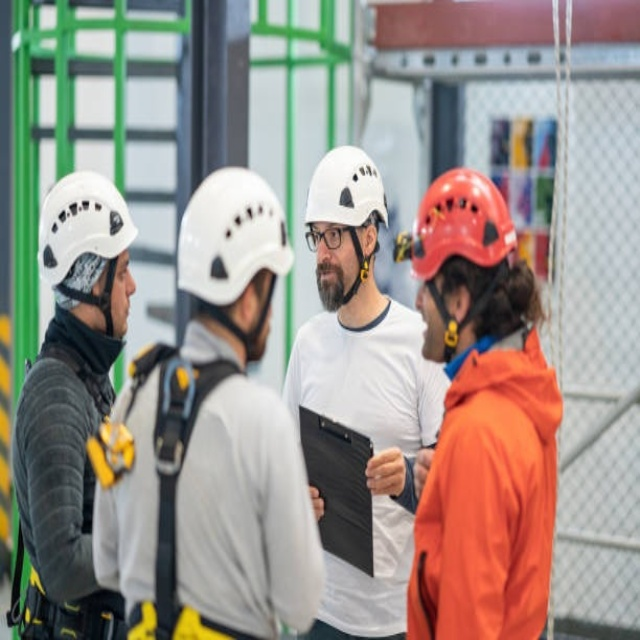Gafas: (306, 224, 347, 254)
Sin_gafas: (114, 251, 132, 282)
Sin_guantes: (364, 444, 407, 500)
Sin_mascara: (416, 303, 439, 356), (116, 293, 135, 331), (315, 260, 336, 290)
